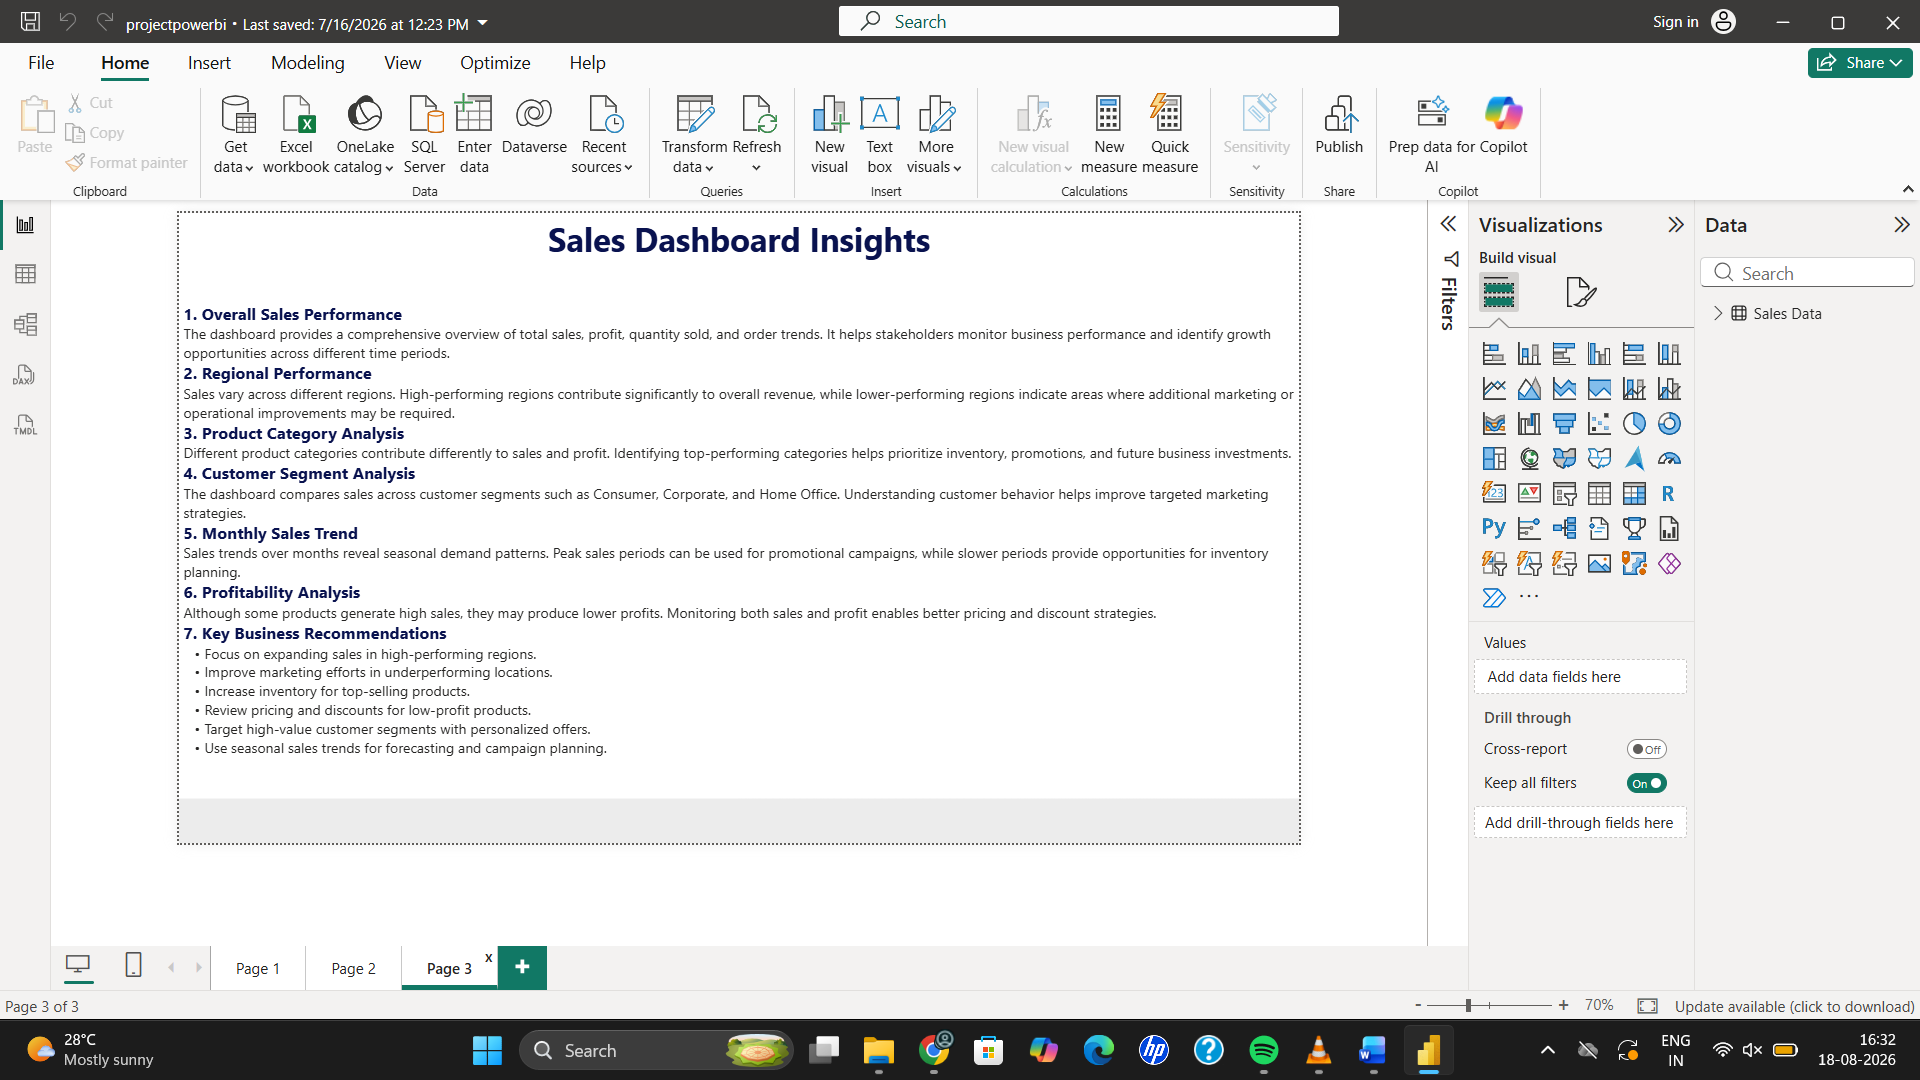

The dashboard page shown, as its layout file describes it:
{"tool":"powerbi","page":{"name":"Page 3","canvas":[1280,720],"ordinal":2},"visuals":[{"type":"textbox","box":[0,0,1280,123.3],"z":0},{"type":"textbox","box":[10,201.5,1270,150],"z":1000},{"type":"textbox","box":[0,96.7,1280,571.7],"z":2000}]}

Visuals, with their boxes on the page's 1280x720 design canvas (x1, y1, x2, y2). These are canvas units, not pixel positions in the 1920x1080 screenshot, which may show the page scaled, cropped or inside an application window:
textbox: bbox=(0, 0, 1280, 123)
textbox: bbox=(10, 202, 1280, 352)
textbox: bbox=(0, 97, 1280, 668)
